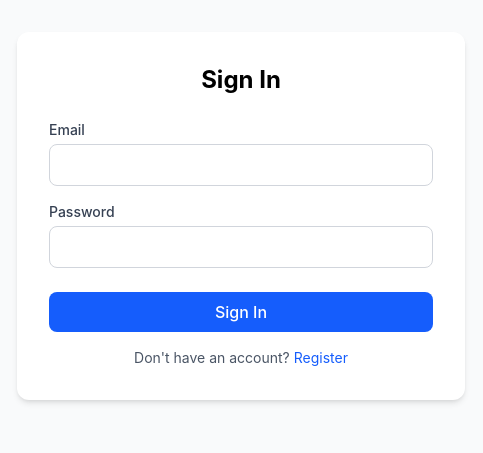
Scenario: LoginPage › clears error on resubmit
Step 1. Type "bad@example.com" into the field labelled "Email" → (241, 165), box x1=49 y1=144 x2=433 y2=186
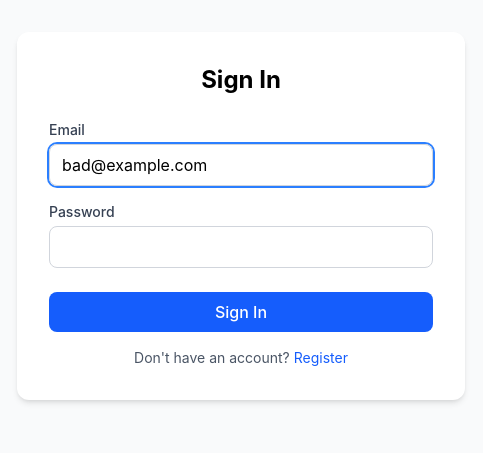
Step 2. Type "wrong" into the password field labelled "Password" → (241, 247), box x1=49 y1=226 x2=433 y2=268
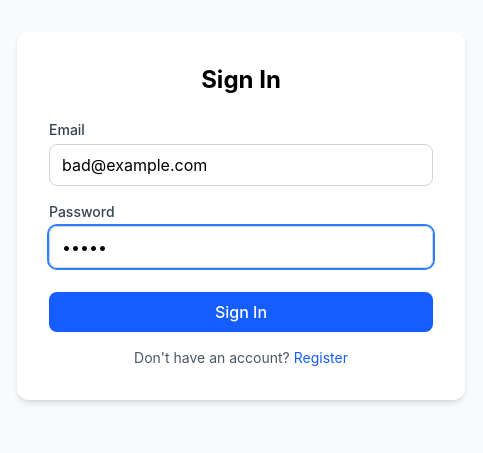
Step 3. Click the button "Sign In" → (241, 312), box x1=49 y1=292 x2=433 y2=332
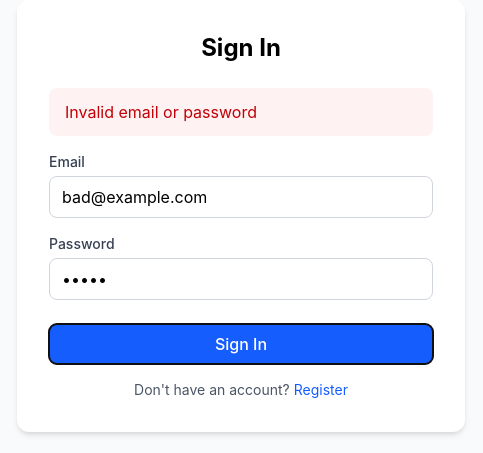
Check: the text "Invalid email or password" is shown, box x1=49 y1=88 x2=433 y2=136
Step 4. Replace the text in the field labelled "Email" with "good@example.com" → (241, 197), box x1=49 y1=176 x2=433 y2=218
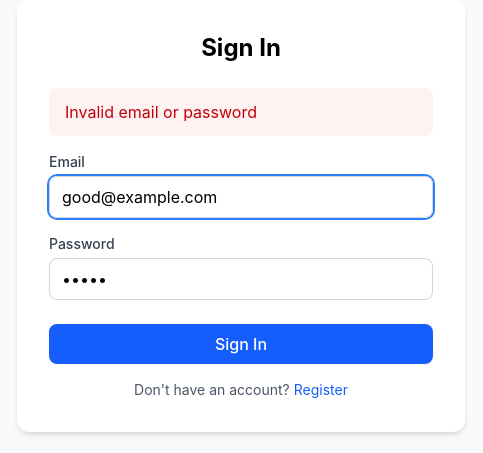
Step 5. Type "password123" into the password field labelled "Password" → (241, 279), box x1=49 y1=258 x2=433 y2=300
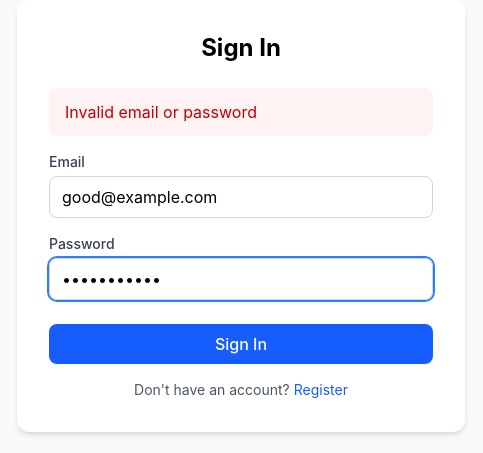
Step 6. Click the button "Sign In" → (241, 344), box x1=49 y1=324 x2=433 y2=364
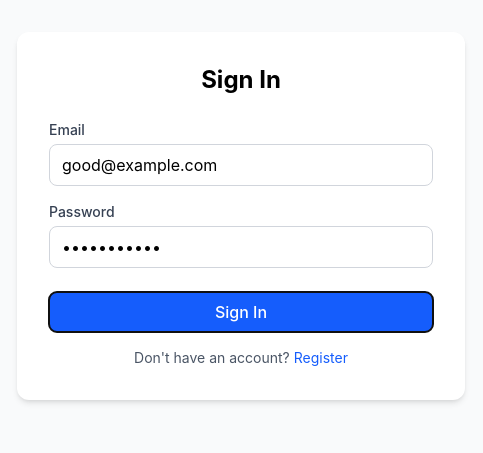
Check: the text "Invalid email or password" is gone
